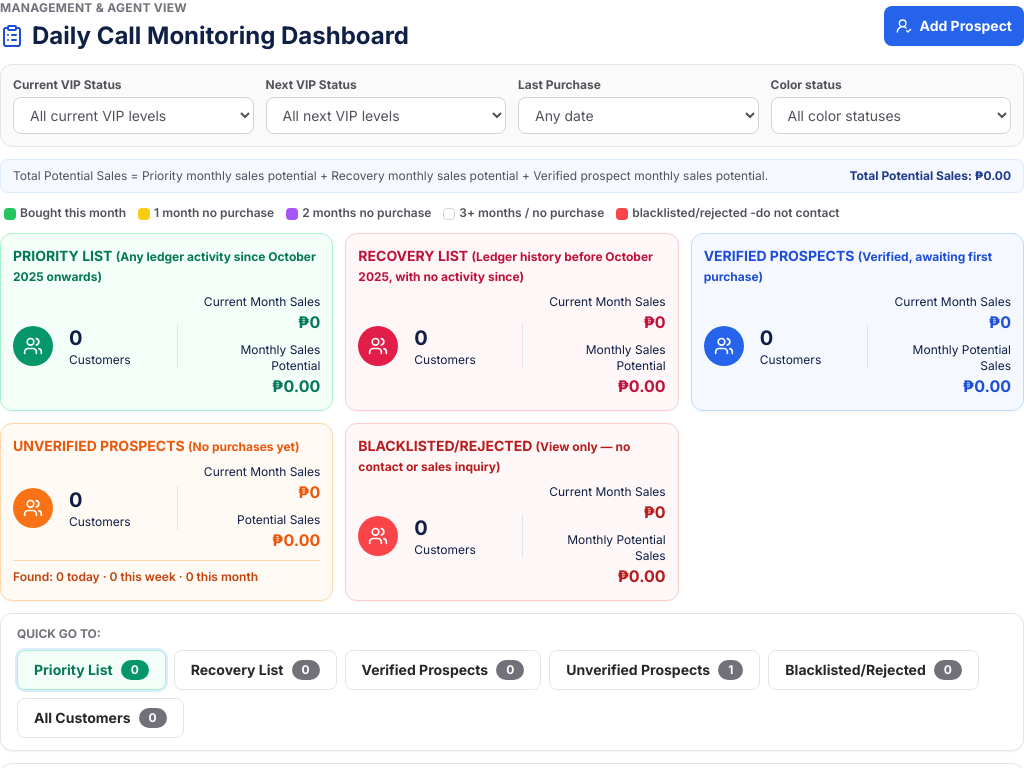
Scenario: DailyCallMasterListView › opens a side-by-side comparison and can approved the submission
Step 1. Click the button with aria-label "Unverified Prospects (1)" → [655, 670], box top-left (549, 650), bottom-right (760, 690)
(page scrolled)
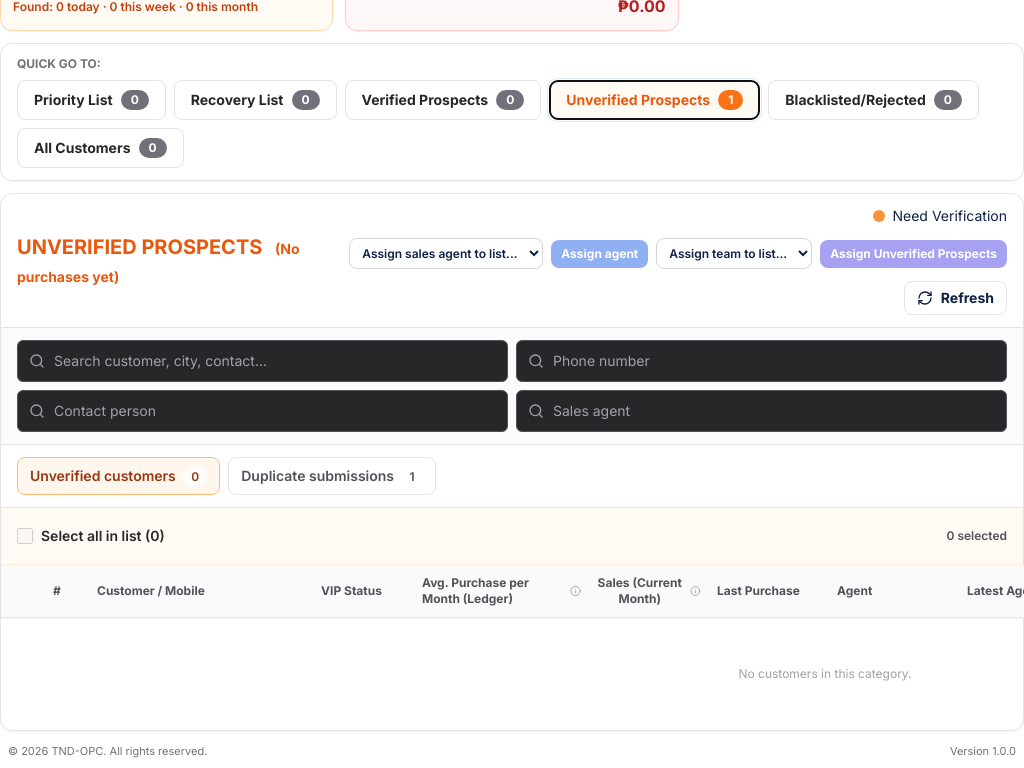
Step 2. Click the button "Duplicate submissions 1" → [332, 476], box top-left (228, 457), bottom-right (436, 495)
(page scrolled)
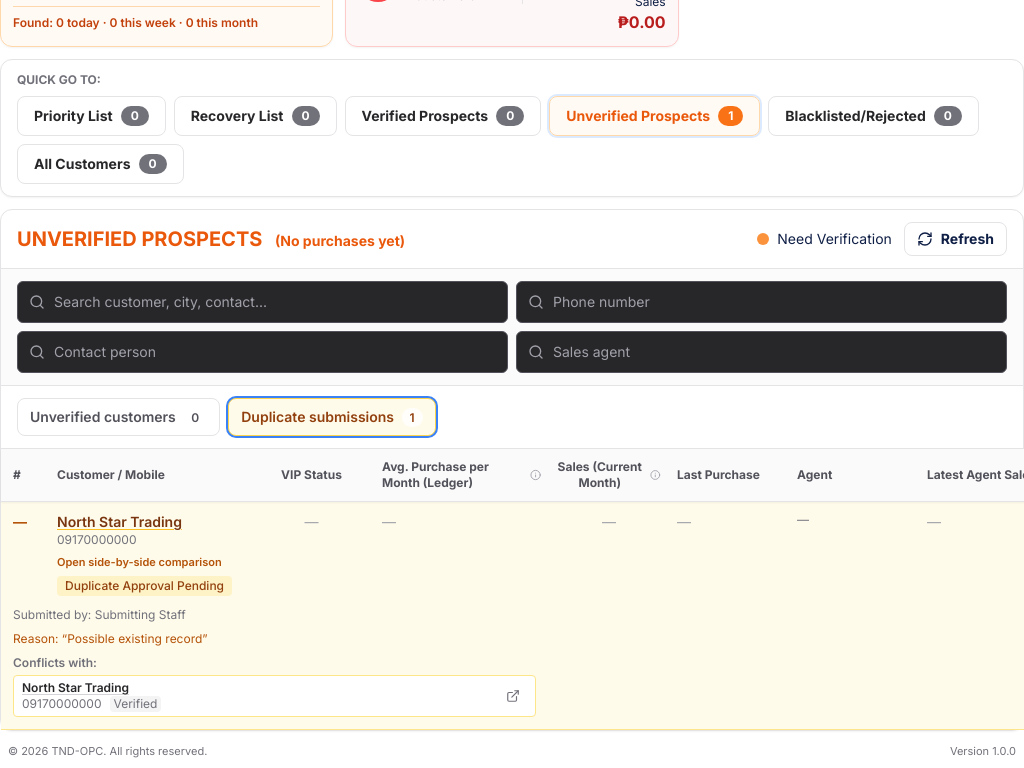
Step 3. Click the button with aria-label "Compare North Star Trading with possible duplicate customers" → [139, 542], box top-left (57, 512), bottom-right (222, 572)
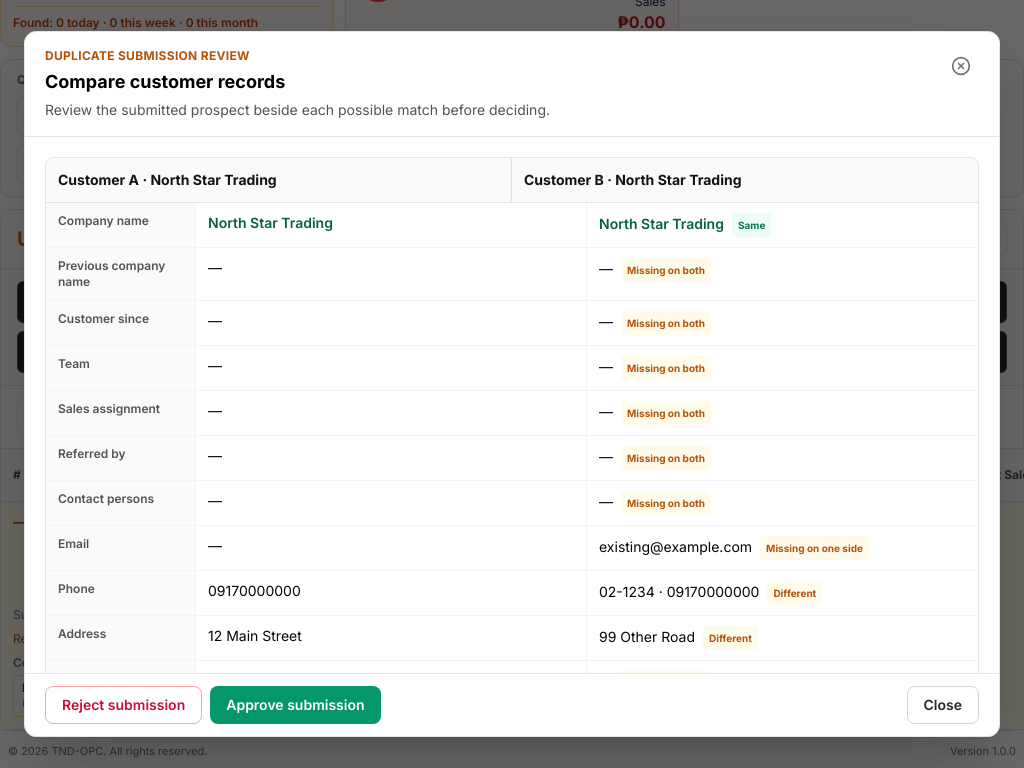
Check: the text "Customer A · North Star Trading" is shown, box top-left (46, 158), bottom-right (512, 202)
Check: the text "Customer B · North Star Trading" is shown, box top-left (524, 171), bottom-right (742, 188)
Check: the text "Missing on one side" is shown, box top-left (760, 536), bottom-right (869, 560)
Step 4. Click the button "Approve submission" → [295, 705], box top-left (210, 686), bottom-right (380, 724)
(page scrolled)
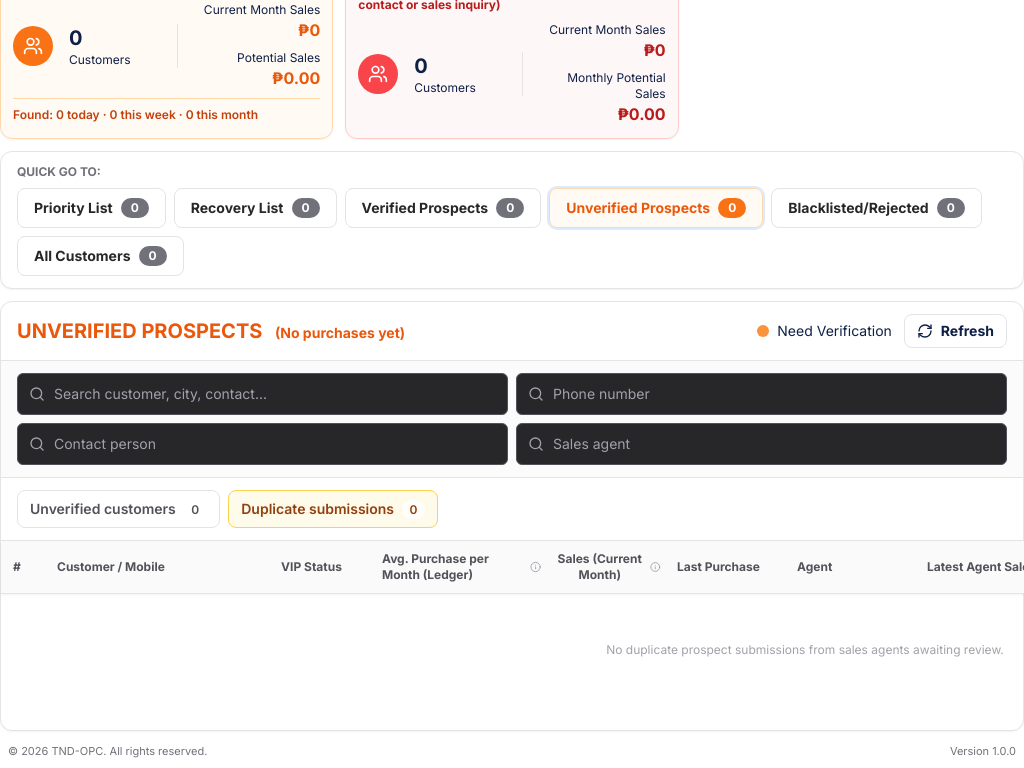
Check: the heading "Compare customer records" is gone
